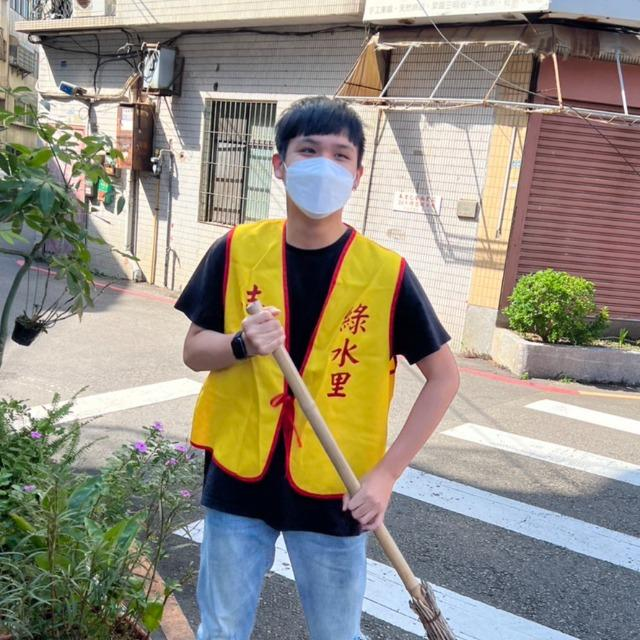NoHelmet: (270, 92, 365, 220)
